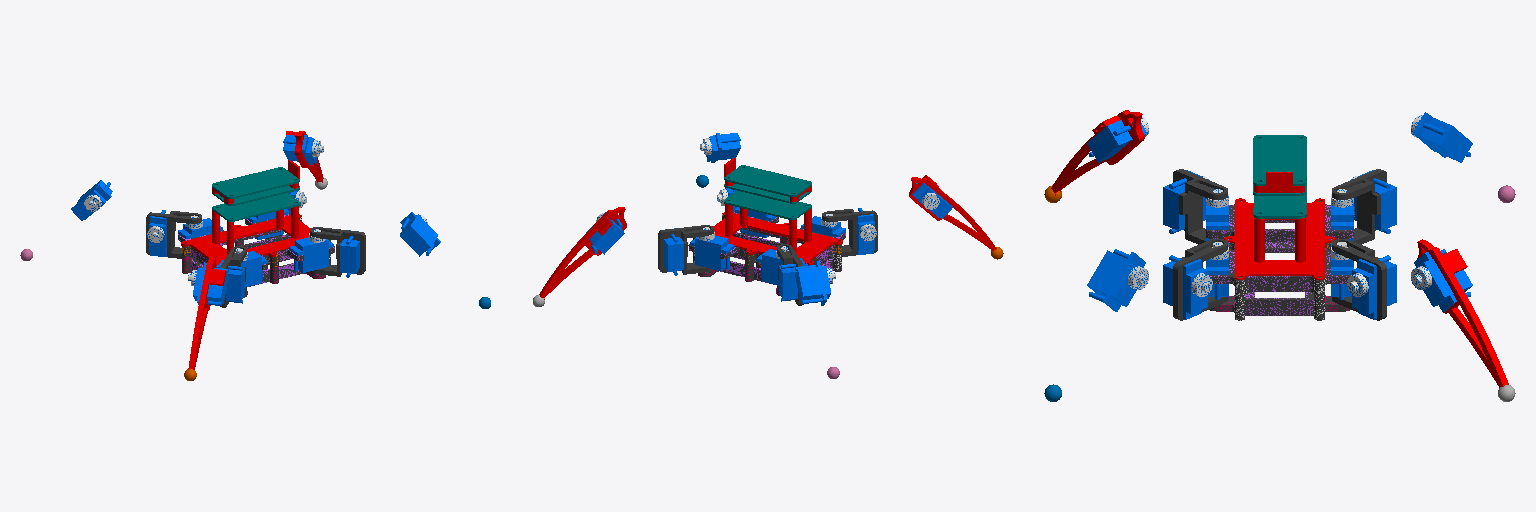
--- What the picture shows (computed from the rendered views, not written in the file) ---
3 views of the same robot in one strip: view 1: azimuth 30°, elevation 25°; view 2: azimuth 150°, elevation 25°; view 3: azimuth 270°, elevation 25° (orthographic).
Robot: open_critter — 29 links, 28 joints (12 revolute, 16 fixed); root link base_link; default pose: all joints at 0.
Links seen in each view (by area): view 1: base_link, rear_right_tibia_link, front_right_coxa_servo, front_right_tibia_servo, front_right_coxa_link, rear_left_coxa_link, rear_left_tibia_servo, rear_right_tibia_servo, rear_left_femur_servo, front_left_tibia_servo, front_right_femur_servo, rear_right_femur_servo (+1 smaller); view 2: base_link, front_left_tibia_link, rear_left_tibia_servo, rear_right_tibia_link, front_left_coxa_servo, front_left_coxa_link, front_right_tibia_servo, rear_right_coxa_link, rear_right_femur_servo, rear_right_tibia_servo, front_left_femur_servo, front_left_tibia_servo (+2 smaller); view 3: base_link, front_left_tibia_link, front_right_tibia_servo, rear_left_coxa_link, rear_right_coxa_link, front_left_femur_servo, front_right_femur_servo, rear_right_tibia_link, rear_left_tibia_servo, front_left_tibia_servo, front_left_coxa_link, front_right_coxa_link (+7 smaller).
Boxes of the visible links, <box> form: base_link: <box>178,160,334,297</box>; rear_right_tibia_link: <box>188,255,225,369</box>; front_right_coxa_servo: <box>289,229,333,272</box>; front_right_tibia_servo: <box>400,212,440,256</box>; front_right_coxa_link: <box>310,227,365,276</box>; rear_left_coxa_link: <box>146,211,201,258</box>; rear_left_tibia_servo: <box>71,180,112,220</box>; rear_right_tibia_servo: <box>188,262,228,305</box>; rear_left_femur_servo: <box>147,210,166,256</box>; front_left_tibia_servo: <box>283,135,323,164</box>; front_right_femur_servo: <box>340,230,359,277</box>; rear_right_femur_servo: <box>216,260,244,303</box>; base_link: <box>688,158,845,295</box>; front_left_tibia_link: <box>539,207,626,299</box>; rear_left_tibia_servo: <box>795,261,835,305</box>; rear_right_tibia_link: <box>909,175,996,250</box>; front_left_coxa_servo: <box>690,227,734,270</box>; front_left_coxa_link: <box>658,225,713,274</box>; front_right_tibia_servo: <box>700,133,740,162</box>; rear_right_coxa_link: <box>822,209,877,257</box>; rear_right_femur_servo: <box>857,208,876,254</box>; rear_right_tibia_servo: <box>912,183,952,218</box>; front_left_femur_servo: <box>664,228,683,275</box>; front_left_tibia_servo: <box>586,212,624,254</box>; base_link: <box>1206,135,1354,320</box>; front_left_tibia_link: <box>1417,239,1508,387</box>; front_right_tibia_servo: <box>1087,249,1148,311</box>; rear_left_coxa_link: <box>1332,169,1386,244</box>; rear_right_coxa_link: <box>1173,169,1227,244</box>; front_left_femur_servo: <box>1347,255,1396,319</box>; front_right_femur_servo: <box>1163,255,1212,319</box>; rear_right_tibia_link: <box>1051,110,1144,195</box>; rear_left_tibia_servo: <box>1411,112,1472,162</box>; front_left_tibia_servo: <box>1411,249,1472,311</box>; front_left_coxa_link: <box>1332,239,1386,320</box>; front_right_coxa_link: <box>1173,239,1227,320</box>.
Size in the robot's own frame: 0.2757 by 0.2658 by 0.0966 metres.
Meshes: 7 distinct files referenced, 19 mesh visuals loaded (5 Collada DAE); not drawn: 2 (reference not matched to a file when rendering), 4 (file found but could not be loaded).

robot.urdf — open_critter:
<?xml version="1.0" encoding="utf-8"?>
<robot name="open_critter">
  <link name="base_link">
    <visual>
      <origin rpy="0 0 3.14" xyz="0.0 0.0 0.04"/>
      <geometry>
        <mesh filename="package://open_critter/meshes/collada/body.dae"/>
      </geometry>
    </visual>
    <collision>
      <origin rpy="0 0 3.14" xyz="0.0 0.0 0.04"/>
      <geometry>
        <mesh filename="package://open_critter/meshes/collada/body.dae"/>
      </geometry>
    </collision>
    <inertial>
      <origin rpy="0 0 0" xyz="0 0 0"/>
      <geometry>
        <box size="0.1 0.05 0.03"/>
      </geometry>
      <mass value="0.2"/>
      <inertia ixx="5.66666666667e-05" ixy="0" ixz="0" iyy="0.000181666666667" iyz="0" izz="0.000181666666667"/>
    </inertial>
  </link>
  <joint name="front_left_base" type="fixed">
    <parent link="base_link"/>
    <child link="front_left_coxa_servo"/>
    <origin rpy="0 0 3.14159265359" xyz="0.03 0.035 0.0225"/>
  </joint>
  <link name="front_left_coxa_servo">
    <visual>
      <origin rpy="0 0 0" xyz="0 0 0"/>
      <geometry>
        <mesh filename="package://open_critter/meshes/collada/servo.dae"/>
      </geometry>
    </visual>
    <!-- <collision>
      <origin rpy="0 0 0" xyz="0 0 0"/>
      <geometry>
        <mesh filename="package://open_critter/meshes/collada/servo.dae"/>
      </geometry>
    </collision> -->
    <inertial>
      <origin rpy="0 0 0" xyz="0 0 0"/>
      <geometry>
        <box size="0.02 0.01 0.03"/>
      </geometry>
      <mass value="0.009"/>
      <inertia ixx="7.5e-07" ixy="0" ixz="0" iyy="9.75e-07" iyz="0" izz="9.75e-07"/>
    </inertial>
  </link>
  <joint name="front_left_coxa_joint" type="revolute">
    <parent link="front_left_coxa_servo"/>
    <child link="front_left_coxa_link"/>
    <origin rpy="0 0 -0.785398163397" xyz="-0.005 0 -0.002"/>
    <limit effort="10" lower="-1.0" upper="1.0" velocity="4.0"/>
    <axis xyz="0 0 1"/>
  </joint>
  <transmission name="front_left_coxa_transmission">
    <type>transmission_interface/SimpleTransmission</type>
    <joint name="front_left_coxa_joint">
      <hardwareInterface>hardware_interface/PositionJointInterface</hardwareInterface>
    </joint>
    <actuator name="front_left_coxa_actuator">
      <hardwareInterface>hardware_interface/PositionJointInterface</hardwareInterface>
      <mechanicalReduction>1.0</mechanicalReduction>
      <motorTorqueConstant>10</motorTorqueConstant>
    </actuator>
  </transmission>
  <link name="front_left_coxa_link">
    <visual>
      <origin rpy="0 0 0" xyz="0.002 -0.016 0"/>
      <geometry>
        <mesh filename="package://open_critter/meshes/collada/coxa_front.dae"/>
      </geometry>
    </visual>
    <collision>
      <origin rpy="0 0 0" xyz="0.002 -0.016 0"/>
      <geometry>
        <mesh filename="package://open_critter/meshes/collada/coxa_front.dae"/>
      </geometry>
    </collision>
    <inertial>
      <origin rpy="0 0 0" xyz="0 0 0"/>
      <geometry>
        <box size="0.04 0.01 0.03"/>
      </geometry>
      <mass value="0.001"/>
      <inertia ixx="8.33333333333e-08" ixy="0" ixz="0" iyy="2.08333333333e-07" iyz="0" izz="2.08333333333e-07"/>
    </inertial>
  </link>
  <gazebo reference="front_left_coxa_link">
    <gravity>true</gravity>
    <selfCollide>true</selfCollide>
  </gazebo>
  <joint name="front_left_femur_servo_to_coxa_joint" type="fixed">
    <parent link="front_left_coxa_link"/>
    <child link="front_left_femur_servo"/>
    <origin rpy="0 0 0" xyz="-0.005 -0.0275 0"/>
  </joint>
  <link name="front_left_femur_servo">
    <visual>
      <origin rpy="0 1.57079632679 3.14159265359" xyz="0 0 0"/>
      <geometry>
        <mesh filename="package://open_critter/meshes/collada/servo.dae"/>
      </geometry>
    </visual>
    <!-- <collision>
      <origin rpy="0 ${pi/2} ${nyaw}" xyz="0 0 0"/>
      <geometry>
        <mesh filename="package://open_critter/meshes/collada/servo.dae"/>
      </geometry>
    </collision> -->
    <inertial>
      <origin rpy="0 1.57079632679 3.14159265359" xyz="0 0 0"/>
      <geometry>
        <box size="0.02 0.01 0.03"/>
      </geometry>
      <mass value="0.009"/>
      <inertia ixx="7.5e-07" ixy="0" ixz="0" iyy="9.75e-07" iyz="0" izz="9.75e-07"/>
    </inertial>
  </link>
  <joint name="front_left_femur_joint" type="revolute">
    <parent link="front_left_femur_servo"/>
    <child link="front_left_femur_link"/>
    <origin rpy="-0.392699081699 0 0" xyz="0 0 0.005"/>
    <limit effort="10" lower="-1.0" upper="1.0" velocity="4.0"/>
    <axis xyz="-1.0 0 0"/>
  </joint>
  <transmission name="front_left_femur_transmission">
    <type>transmission_interface/SimpleTransmission</type>
    <joint name="front_left_femur_joint">
      <hardwareInterface>hardware_interface/PositionJointInterface</hardwareInterface>
    </joint>
    <actuator name="front_left_femur_actuator">
      <hardwareInterface>hardware_interface/PositionJointInterface</hardwareInterface>
      <mechanicalReduction>1.0</mechanicalReduction>
      <motorTorqueConstant>10</motorTorqueConstant>
    </actuator>
  </transmission>
  <link name="front_left_femur_link">
    <visual>
      <origin rpy="0 3.14159265359 0" xyz="0.0025 -0.0275 0"/>
      <geometry>
        <mesh filename="package://open_critter/meshes/collada/femur.dae"/>
      </geometry>
    </visual>
    <collision>
      <origin rpy="0 3.14159265359 0" xyz="0.0025 -0.0275 0"/>
      <geometry>
        <mesh filename="package://open_critter/meshes/collada/femur.dae"/>
      </geometry>
    </collision>
    <inertial>
      <origin rpy="0 0 0" xyz="0 0 0"/>
      <geometry>
        <box size="0.05 0.01 0.03"/>
      </geometry>
      <mass value="0.002"/>
      <inertia ixx="1.66666666667e-07" ixy="0" ixz="0" iyy="5.66666666667e-07" iyz="0" izz="5.66666666667e-07"/>
    </inertial>
  </link>
  <gazebo reference="front_left_femur_link">
    <gravity>true</gravity>
    <selfCollide>true</selfCollide>
  </gazebo>
  <joint name="front_left_tibia_joint" type="revolute">
    <parent link="front_left_femur_link"/>
    <child link="front_left_tibia_servo"/>
    <origin rpy="-0.392699081699 0 0" xyz="0 -0.055 0"/>
    <limit effort="10" lower="-1.0" upper="1.0" velocity="4.0"/>
    <axis xyz="1.0 0 0"/>
    <dynamics friction="0.7"/>
  </joint>
  <transmission name="front_left_tibia_transmission">
    <type>transmission_interface/SimpleTransmission</type>
    <joint name="front_left_tibia_joint">
      <hardwareInterface>hardware_interface/PositionJointInterface</hardwareInterface>
    </joint>
    <actuator name="front_left_tibia_actuator">
      <hardwareInterface>hardware_interface/PositionJointInterface</hardwareInterface>
      <mechanicalReduction>1.0</mechanicalReduction>
      <motorTorqueConstant>10</motorTorqueConstant>
    </actuator>
  </transmission>
  <link name="front_left_tibia_servo">
    <visual>
      <origin rpy="0 1.57079632679 3.14159265359" xyz="0.0 0 -0.005"/>
      <geometry>
        <mesh filename="package://open_critter/meshes/collada/servo.dae"/>
      </geometry>
    </visual>
    <!-- <collision>
      <origin rpy="0 ${pi/2} ${nyaw}" xyz="${side*servo_x} 0 -0.005"/>
      <geometry>
        <mesh filename="package://open_critter/meshes/collada/servo.dae"/>
      </geometry>
    </collision> -->
    <inertial>
      <origin rpy="0 1.57079632679 3.14159265359" xyz="0.0 0 -0.005"/>
      <geometry>
        <box size="0.02 0.01 0.03"/>
      </geometry>
      <mass value="0.009"/>
      <inertia ixx="7.5e-07" ixy="0" ixz="0" iyy="9.75e-07" iyz="0" izz="9.75e-07"/>
    </inertial>
  </link>
  <joint name="front_left_tibia_servo_to_femur_joint" type="fixed">
    <parent link="front_left_tibia_servo"/>
    <child link="front_left_tibia_link"/>
    <origin rpy="0 0 0" xyz="0 0 0"/>
  </joint>
  <link name="front_left_tibia_link">
    <visual>
      <origin rpy="0 0 3.14159265359" xyz="0.0075 0 -0.03"/>
      <geometry>
        <mesh filename="package://open_critter/meshes/collada/tibia_rear.dae"/>
      </geometry>
    </visual>
    <collision>
      <origin rpy="0 0 3.14159265359" xyz="0.0075 0 -0.03"/>
      <geometry>
        <mesh filename="package://open_critter/meshes/collada/tibia_rear.dae"/>
      </geometry>
    </collision>
    <inertial>
      <origin rpy="0 0 0" xyz="0 0 0"/>
      <geometry>
        <box size="0.1 0.005 0.005"/>
      </geometry>
      <mass value="0.001"/>
      <inertia ixx="4.16666666667e-09" ixy="0" ixz="0" iyy="8.35416666667e-07" iyz="0" izz="8.35416666667e-07"/>
    </inertial>
  </link>
  <gazebo reference="front_left_tibia_link">
    <mu1 value="5.0"/>
    <mu2 value="0.5"/>
    <kp value="10000000.0"/>
    <kd value="1.0"/>
    <fdir1 value="1 0 0"/>
    <turnGravityOff>false</turnGravityOff>
    <selfCollide>true</selfCollide>
  </gazebo>
  <joint name="front_left_tibia_paw_joint" type="fixed">
    <parent link="front_left_tibia_link"/>
    <child link="front_left_paw_link"/>
    <origin rpy="0 0 0" xyz="0.0015 0 -0.08"/>
  </joint>
  <link name="front_left_paw_link">
    <visual>
      <origin rpy="0 0 0" xyz="0 0 0"/>
      <geometry>
        <sphere radius="0.005"/>
      </geometry>
    </visual>
    <collision>
      <origin rpy="0 0 0" xyz="0 0 0"/>
      <geometry>
        <sphere radius="0.005"/>
      </geometry>
    </collision>
    <inertial>
      <origin rpy="0 0 0" xyz="0 0 0"/>
      <geometry>
        <sphere radius="0.005"/>
      </geometry>
      <mass value="0.001"/>
      <inertia ixx="1e-08" ixy="0" ixz="0" iyy="1e-08" iyz="0" izz="1e-08"/>
    </inertial>
  </link>
  <gazebo reference="front_left_paw_link">
    <gravity>true</gravity>
    <selfCollide>true</selfCollide>
    <mu1>0.1</mu1>
    <mu2>0.1</mu2>
    <kp>1000000.0</kp>
    <kd>1.0</kd>
    <fdir1>0 1 0</fdir1>
    <maxContacts>1</maxContacts>
    <minDepth>0.0001</minDepth>
    <collision name="front_left__paw_link_collision">
      <geometry>
        <sphere>
          <radius>0.005</radius>
        </sphere>
      </geometry>
      <surface>
        <friction>
          <torsional>
            <coefficient>10</coefficient>
            <use_patch_radius>false</use_patch_radius>
            <surface_radius>0.01</surface_radius>
            <patch_radius>0.01</patch_radius>
          </torsional>
        </friction>
        <contact>
          <poissons_ratio>0.01</poissons_ratio>
          <elastic_modulus>1e8</elastic_modulus>
        </contact>
      </surface>
    </collision>
    <material>Gazebo/Red</material>
  </gazebo>
  <joint name="rear_left_base" type="fixed">
    <parent link="base_link"/>
    <child link="rear_left_coxa_servo"/>
    <origin rpy="0 0 0" xyz="-0.03 0.035 0.0225"/>
  </joint>
  <link name="rear_left_coxa_servo">
    <visual>
      <origin rpy="0 0 0" xyz="0 0 0"/>
      <geometry>
        <mesh filename="package://open_critter/meshes/collada/servo.dae"/>
      </geometry>
    </visual>
    <!-- <collision>
      <origin rpy="0 0 0" xyz="0 0 0"/>
      <geometry>
        <mesh filename="package://open_critter/meshes/collada/servo.dae"/>
      </geometry>
    </collision> -->
    <inertial>
      <origin rpy="0 0 0" xyz="0 0 0"/>
      <geometry>
        <box size="0.02 0.01 0.03"/>
      </geometry>
      <mass value="0.009"/>
      <inertia ixx="7.5e-07" ixy="0" ixz="0" iyy="9.75e-07" iyz="0" izz="9.75e-07"/>
    </inertial>
  </link>
  <joint name="rear_left_coxa_joint" type="revolute">
    <parent link="rear_left_coxa_servo"/>
    <child link="rear_left_coxa_link"/>
    <origin rpy="0 0 3.92699081699" xyz="-0.005 0 -0.002"/>
    <limit effort="10" lower="-1.0" upper="1.0" velocity="4.0"/>
    <axis xyz="0 0 1"/>
  </joint>
  <transmission name="rear_left_coxa_transmission">
    <type>transmission_interface/SimpleTransmission</type>
    <joint name="rear_left_coxa_joint">
      <hardwareInterface>hardware_interface/PositionJointInterface</hardwareInterface>
    </joint>
    <actuator name="rear_left_coxa_actuator">
      <hardwareInterface>hardware_interface/PositionJointInterface</hardwareInterface>
      <mechanicalReduction>1.0</mechanicalReduction>
      <motorTorqueConstant>10</motorTorqueConstant>
    </actuator>
  </transmission>
  <link name="rear_left_coxa_link">
    <visual>
      <origin rpy="0 0 3.14159265359" xyz="-0.002 -0.016 0"/>
      <geometry>
        <mesh filename="package://open_critter/meshes/collada/coxa_rear.dae"/>
      </geometry>
    </visual>
    <collision>
      <origin rpy="0 0 3.14159265359" xyz="-0.002 -0.016 0"/>
      <geometry>
        <mesh filename="package://open_critter/meshes/collada/coxa_rear.dae"/>
      </geometry>
    </collision>
    <inertial>
      <origin rpy="0 0 0" xyz="0 0 0"/>
      <geometry>
        <box size="0.04 0.01 0.03"/>
      </geometry>
      <mass value="0.001"/>
      <inertia ixx="8.33333333333e-08" ixy="0" ixz="0" iyy="2.08333333333e-07" iyz="0" izz="2.08333333333e-07"/>
    </inertial>
  </link>
  <gazebo reference="rear_left_coxa_link">
    <gravity>true</gravity>
    <selfCollide>true</selfCollide>
  </gazebo>
  <joint name="rear_left_femur_servo_to_coxa_joint" type="fixed">
    <parent link="rear_left_coxa_link"/>
    <child link="rear_left_femur_servo"/>
    <origin rpy="0 0 0" xyz="0.005 -0.0275 0"/>
  </joint>
  <link name="rear_left_femur_servo">
    <visual>
      <origin rpy="0 1.57079632679 0" xyz="0 0 0"/>
      <geometry>
        <mesh filename="package://open_critter/meshes/collada/servo.dae"/>
      </geometry>
    </visual>
    <!-- <collision>
      <origin rpy="0 ${pi/2} ${nyaw}" xyz="0 0 0"/>
      <geometry>
        <mesh filename="package://open_critter/meshes/collada/servo.dae"/>
      </geometry>
    </collision> -->
    <inertial>
      <origin rpy="0 1.57079632679 0" xyz="0 0 0"/>
      <geometry>
        <box size="0.02 0.01 0.03"/>
      </geometry>
      <mass value="0.009"/>
      <inertia ixx="7.5e-07" ixy="0" ixz="0" iyy="9.75e-07" iyz="0" izz="9.75e-07"/>
    </inertial>
  </link>
  <joint name="rear_left_femur_joint" type="revolute">
    <parent link="rear_left_femur_servo"/>
    <child link="rear_left_femur_link"/>
    <origin rpy="-0.392699081699 0 0" xyz="-0.005 0 0.005"/>
    <limit effort="10" lower="-1.0" upper="1.0" velocity="4.0"/>
    <axis xyz="1.0 0 0"/>
  </joint>
  <transmission name="rear_left_femur_transmission">
    <type>transmission_interface/SimpleTransmission</type>
    <joint name="rear_left_femur_joint">
      <hardwareInterface>hardware_interface/PositionJointInterface</hardwareInterface>
    </joint>
    <actuator name="rear_left_femur_actuator">
      <hardwareInterface>hardware_interface/PositionJointInterface</hardwareInterface>
      <mechanicalReduction>1.0</mechanicalReduction>
      <motorTorqueConstant>10</motorTorqueConstant>
    </actuator>
  </transmission>
  <link name="rear_left_femur_link">
    <visual>
      <origin rpy="0 0 0" xyz="0.0025 -0.0275 0"/>
      <geometry>
        <mesh filename="package://open_critter/meshes/collada/femur.dae"/>
      </geometry>
    </visual>
    <collision>
      <origin rpy="0 0 0" xyz="0.0025 -0.0275 0"/>
      <geometry>
        <mesh filename="package://open_critter/meshes/collada/femur.dae"/>
      </geometry>
    </collision>
    <inertial>
      <origin rpy="0 0 0" xyz="0 0 0"/>
      <geometry>
        <box size="0.05 0.01 0.03"/>
      </geometry>
      <mass value="0.002"/>
      <inertia ixx="1.66666666667e-07" ixy="0" ixz="0" iyy="5.66666666667e-07" iyz="0" izz="5.66666666667e-07"/>
    </inertial>
  </link>
  <gazebo reference="rear_left_femur_link">
    <gravity>true</gravity>
    <selfCollide>true</selfCollide>
  </gazebo>
  <joint name="rear_left_tibia_joint" type="revolute">
    <parent link="rear_left_femur_link"/>
    <child link="rear_left_tibia_servo"/>
    <origin rpy="-0.392699081699 0 0" xyz="0 -0.055 0"/>
    <limit effort="10" lower="-1.0" upper="1.0" velocity="4.0"/>
    <axis xyz="-1.0 0 0"/>
    <dynamics friction="0.7"/>
  </joint>
  <transmission name="rear_left_tibia_transmission">
    <type>transmission_interface/SimpleTransmission</type>
    <joint name="rear_left_tibia_joint">
      <hardwareInterface>hardware_interface/PositionJointInterface</hardwareInterface>
    </joint>
    <actuator name="rear_left_tibia_actuator">
      <hardwareInterface>hardware_interface/PositionJointInterface</hardwareInterface>
      <mechanicalReduction>1.0</mechanicalReduction>
      <motorTorqueConstant>10</motorTorqueConstant>
    </actuator>
  </transmission>
  <link name="rear_left_tibia_servo">
    <visual>
      <origin rpy="0 1.57079632679 0" xyz="0.005 0 -0.005"/>
      <geometry>
        <mesh filename="package://open_critter/meshes/collada/servo.dae"/>
      </geometry>
    </visual>
    <!-- <collision>
      <origin rpy="0 ${pi/2} ${nyaw}" xyz="${side*servo_x} 0 -0.005"/>
      <geometry>
        <mesh filename="package://open_critter/meshes/collada/servo.dae"/>
      </geometry>
    </collision> -->
    <inertial>
      <origin rpy="0 1.57079632679 0" xyz="0.005 0 -0.005"/>
      <geometry>
        <box size="0.02 0.01 0.03"/>
      </geometry>
      <mass value="0.009"/>
      <inertia ixx="7.5e-07" ixy="0" ixz="0" iyy="9.75e-07" iyz="0" izz="9.75e-07"/>
    </inertial>
  </link>
  <joint name="rear_left_tibia_servo_to_femur_joint" type="fixed">
    <parent link="rear_left_tibia_servo"/>
    <child link="rear_left_tibia_link"/>
    <origin rpy="0 0 0" xyz="0 0 0"/>
  </joint>
  <link name="rear_left_tibia_link">
    <visual>
      <origin rpy="0 0 0" xyz="-0.0025 0 -0.03"/>
      <geometry>
        <mesh filename="package://open_critter/meshes/collada/tibia_front.dae"/>
      </geometry>
    </visual>
    <collision>
      <origin rpy="0 0 0" xyz="-0.0025 0 -0.03"/>
      <geometry>
        <mesh filename="package://open_critter/meshes/collada/tibia_front.dae"/>
      </geometry>
    </collision>
    <inertial>
      <origin rpy="0 0 0" xyz="0 0 0"/>
      <geometry>
        <box size="0.1 0.005 0.005"/>
      </geometry>
      <mass value="0.001"/>
      <inertia ixx="4.16666666667e-09" ixy="0" ixz="0" iyy="8.35416666667e-07" iyz="0" izz="8.35416666667e-07"/>
    </inertial>
  </link>
  <gazebo reference="rear_left_tibia_link">
    <mu1 value="5.0"/>
    <mu2 value="0.5"/>
    <kp value="10000000.0"/>
    <kd value="1.0"/>
    <fdir1 value="1 0 0"/>
    <turnGravityOff>false</turnGravityOff>
    <selfCollide>true</selfCollide>
  </gazebo>
  <joint name="rear_left_tibia_paw_joint" type="fixed">
    <parent link="rear_left_tibia_link"/>
    <child link="rear_left_paw_link"/>
    <origin rpy="0 0 0" xyz="0.0035 0 -0.08"/>
  </joint>
  <link name="rear_left_paw_link">
    <visual>
      <origin rpy="0 0 0" xyz="0 0 0"/>
      <geometry>
        <sphere radius="0.005"/>
      </geometry>
    </visual>
    <collision>
      <origin rpy="0 0 0" xyz="0 0 0"/>
      <geometry>
        <sphere radius="0.005"/>
      </geometry>
    </collision>
    <inertial>
      <origin rpy="0 0 0" xyz="0 0 0"/>
      <geometry>
        <sphere radius="0.005"/>
      </geometry>
      <mass value="0.001"/>
      <inertia ixx="1e-08" ixy="0" ixz="0" iyy="1e-08" iyz="0" izz="1e-08"/>
    </inertial>
  </link>
  <gazebo reference="rear_left_paw_link">
    <gravity>true</gravity>
    <selfCollide>true</selfCollide>
    <mu1>0.1</mu1>
    <mu2>0.1</mu2>
    <kp>1000000.0</kp>
    <kd>1.0</kd>
    <fdir1>0 1 0</fdir1>
    <maxContacts>1</maxContacts>
    <minDepth>0.0001</minDepth>
    <collision name="rear_left__paw_link_collision">
      <geometry>
        <sphere>
          <radius>0.005</radius>
        </sphere>
      </geometry>
      <surface>
        <friction>
          <torsional>
            <coefficient>10</coefficient>
            <use_patch_radius>false</use_patch_radius>
            <surface_radius>0.01</surface_radius>
            <patch_radius>0.01</patch_radius>
          </torsional>
        </friction>
        <contact>
          <poissons_ratio>0.01</poissons_ratio>
          <elastic_modulus>1e8</elastic_modulus>
        </contact>
      </surface>
    </collision>
    <material>Gazebo/Red</material>
  </gazebo>
  <joint name="rear_right_base" type="fixed">
    <parent link="base_link"/>
    <child link="rear_right_coxa_servo"/>
    <origin rpy="0 0 0" xyz="-0.03 -0.035 0.0225"/>
  </joint>
  <link name="rear_right_coxa_servo">
    <visual>
      <origin rpy="0 0 0" xyz="0 0 0"/>
      <geometry>
        <mesh filename="package://open_critter/meshes/collada/servo.dae"/>
      </geometry>
    </visual>
    <!-- <collision>
      <origin rpy="0 0 0" xyz="0 0 0"/>
      <geometry>
        <mesh filename="package://open_critter/meshes/collada/servo.dae"/>
      </geometry>
    </collision> -->
    <inertial>
      <origin rpy="0 0 0" xyz="0 0 0"/>
      <geometry>
        <box size="0.02 0.01 0.03"/>
      </geometry>
      <mass value="0.009"/>
      <inertia ixx="7.5e-07" ixy="0" ixz="0" iyy="9.75e-07" iyz="0" izz="9.75e-07"/>
    </inertial>
  </link>
  <joint name="rear_right_coxa_joint" type="revolute">
    <parent link="rear_right_coxa_servo"/>
    <child link="rear_right_coxa_link"/>
    <origin rpy="0 0 -0.785398163397" xyz="-0.005 0 -0.002"/>
    <limit effort="10" lower="-1.0" upper="1.0" velocity="4.0"/>
    <axis xyz="0 0 1"/>
  </joint>
  <transmission name="rear_right_coxa_transmission">
    <type>transmission_interface/SimpleTransmission</type>
    <joint name="rear_right_coxa_joint">
      <hardwareInterface>hardware_interface/PositionJointInterface</hardwareInterface>
    </joint>
    <actuator name="rear_right_coxa_actuator">
      <hardwareInterface>hardware_interface/PositionJointInterface</hardwareInterface>
      <mechanicalReduction>1.0</mechanicalReduction>
      <motorTorqueConstant>10</motorTorqueConstant>
    </actuator>
  </transmission>
  <link name="rear_right_coxa_link">
    <visual>
      <origin rpy="0 0 0" xyz="0.002 -0.016 0"/>
      <geometry>
        <mesh filename="package://open_critter/meshes/collada/coxa_front.dae"/>
      </geometry>
    </visual>
    <collision>
      <origin rpy="0 0 0" xyz="0.002 -0.016 0"/>
      <geometry>
        <mesh filename="package://open_critter/meshes/collada/coxa_front.dae"/>
      </geometry>
    </collision>
    <inertial>
      <origin rpy="0 0 0" xyz="0 0 0"/>
      <geometry>
        <box size="0.04 0.01 0.03"/>
      </geometry>
      <mass value="0.001"/>
      <inertia ixx="8.33333333333e-08" ixy="0" ixz="0" iyy="2.08333333333e-07" iyz="0" izz="2.08333333333e-07"/>
    </inertial>
  </link>
  <gazebo reference="rear_right_coxa_link">
    <gravity>true</gravity>
    <selfCollide>true</selfCollide>
  </gazebo>
  <joint name="rear_right_femur_servo_to_coxa_joint" type="fixed">
    <parent link="rear_right_coxa_link"/>
    <child link="rear_right_femur_servo"/>
    <origin rpy="0 0 0" xyz="-0.005 -0.0275 0"/>
  </joint>
  <link name="rear_right_femur_servo">
    <visual>
      <origin rpy="0 1.57079632679 3.14159265359" xyz="0 0 0"/>
      <geometry>
        <mesh filename="package://open_critter/meshes/collada/servo.dae"/>
      </geometry>
    </visual>
    <!-- <collision>
      <origin rpy="0 ${pi/2} ${nyaw}" xyz="0 0 0"/>
      <geometry>
        <mesh filename="package://open_critter/meshes/collada/servo.dae"/>
      </geometry>
    </collision> -->
    <inertial>
      <origin rpy="0 1.57079632679 3.14159265359" xyz="0 0 0"/>
      <geometry>
        <box size="0.02 0.01 0.03"/>
      </geometry>
      <mass value="0.009"/>
      <inertia ixx="7.5e-07" ixy="0" ixz="0" iyy="9.75e-07" iyz="0" izz="9.75e-07"/>
    </inertial>
  </link>
  <joint name="rear_right_femur_joint" type="revolute">
    <parent link="rear_right_femur_servo"/>
    <child link="rear_right_femur_link"/>
    <origin rpy="-0.392699081699 0 0" xyz="0 0 0.005"/>
    <limit effort="10" lower="-1.0" upper="1.0" velocity="4.0"/>
    <axis xyz="-1.0 0 0"/>
  </joint>
  <transmission name="rear_right_femur_transmission">
    <type>transmission_interface/SimpleTransmission</type>
    <joint name="rear_right_femur_joint">
      <hardwareInterface>hardware_interface/PositionJointInterface</hardwareInterface>
    </joint>
    <actuator name="rear_right_femur_actuator">
      <hardwareInterface>hardware_interface/PositionJointInterface</hardwareInterface>
      <mechanicalReduction>1.0</mechanicalReduction>
      <motorTorqueConstant>10</motorTorqueConstant>
    </actuator>
  </transmission>
  <link name="rear_right_femur_link">
    <visual>
      <origin rpy="0 3.14159265359 0" xyz="0.0025 -0.0275 0"/>
      <geometry>
        <mesh filename="package://open_critter/meshes/collada/femur.dae"/>
      </geometry>
    </visual>
    <collision>
      <origin rpy="0 3.14159265359 0" xyz="0.0025 -0.0275 0"/>
      <geometry>
        <mesh filename="package://open_critter/meshes/collada/femur.dae"/>
      </geometry>
    </collision>
    <inertial>
      <origin rpy="0 0 0" xyz="0 0 0"/>
      <geometry>
        <box size="0.05 0.01 0.03"/>
      </geometry>
      <mass value="0.002"/>
      <inertia ixx="1.66666666667e-07" ixy="0" ixz="0" iyy="5.66666666667e-07" iyz="0" izz="5.66666666667e-07"/>
    </inertial>
  </link>
  <gazebo reference="rear_right_femur_link">
    <gravity>true</gravity>
    <selfCollide>true</selfCollide>
  </gazebo>
  <joint name="rear_right_tibia_joint" type="revolute">
    <parent link="rear_right_femur_link"/>
    <child link="rear_right_tibia_servo"/>
    <origin rpy="-0.392699081699 0 0" xyz="0 -0.055 0"/>
    <limit effort="10" lower="-1.0" upper="1.0" velocity="4.0"/>
    <axis xyz="1.0 0 0"/>
    <dynamics friction="0.7"/>
  </joint>
  <transmission name="rear_right_tibia_transmission">
    <type>transmission_interface/SimpleTransmission</type>
    <joint name="rear_right_tibia_joint">
      <hardwareInterface>hardware_interface/PositionJointInterface</hardwareInterface>
    </joint>
    <actuator name="rear_right_tibia_actuator">
      <hardwareInterface>hardware_interface/PositionJointInterface</hardwareInterface>
      <mechanicalReduction>1.0</mechanicalReduction>
      <motorTorqueConstant>10</motorTorqueConstant>
    </actuator>
  </transmission>
  <link name="rear_right_tibia_servo">
    <visual>
      <origin rpy="0 1.57079632679 3.14159265359" xyz="0.0 0 -0.005"/>
      <geometry>
        <mesh filename="package://open_critter/meshes/collada/servo.dae"/>
      </geometry>
    </visual>
    <!-- <collision>
      <origin rpy="0 ${pi/2} ${nyaw}" xyz="${side*servo_x} 0 -0.005"/>
      <geometry>
        <mesh filename="package://open_critter/meshes/collada/servo.dae"/>
      </geometry>
    </collision> -->
    <inertial>
      <origin rpy="0 1.57079632679 3.14159265359" xyz="0.0 0 -0.005"/>
      <geometry>
        <box size="0.02 0.01 0.03"/>
      </geometry>
      <mass value="0.009"/>
      <inertia ixx="7.5e-07" ixy="0" ixz="0" iyy="9.75e-07" iyz="0" izz="9.75e-07"/>
    </inertial>
  </link>
  <joint name="rear_right_tibia_servo_to_femur_joint" type="fixed">
    <parent link="rear_right_tibia_servo"/>
    <child link="rear_right_tibia_link"/>
    <origin rpy="0 0 0" xyz="0 0 0"/>
  </joint>
  <link name="rear_right_tibia_link">
    <visual>
      <origin rpy="0 0 3.14159265359" xyz="0.0075 0 -0.03"/>
      <geometry>
        <mesh filename="package://open_critter/meshes/collada/tibia_rear.dae"/>
      </geometry>
    </visual>
    <collision>
      <origin rpy="0 0 3.14159265359" xyz="0.0075 0 -0.03"/>
      <geometry>
        <mesh filename="package://open_critter/meshes/collada/tibia_rear.dae"/>
      </geometry>
    </collision>
    <inertial>
      <origin rpy="0 0 0" xyz="0 0 0"/>
      <geometry>
        <box size="0.1 0.005 0.005"/>
      </geometry>
      <mass value="0.001"/>
      <inertia ixx="4.16666666667e-09" ixy="0" ixz="0" iyy="8.35416666667e-07" iyz="0" izz="8.35416666667e-07"/>
    </inertial>
  </link>
  <gazebo reference="rear_right_tibia_link">
    <mu1 value="5.0"/>
    <mu2 value="0.5"/>
    <kp value="10000000.0"/>
    <kd value="1.0"/>
    <fdir1 value="1 0 0"/>
    <turnGravityOff>false</turnGravityOff>
    <selfCollide>true</selfCollide>
  </gazebo>
  <joint name="rear_right_tibia_paw_joint" type="fixed">
    <parent link="rear_right_tibia_link"/>
    <child link="rear_right_paw_link"/>
    <origin rpy="0 0 0" xyz="0.0015 0 -0.08"/>
  </joint>
  <link name="rear_right_paw_link">
    <visual>
      <origin rpy="0 0 0" xyz="0 0 0"/>
      <geometry>
        <sphere radius="0.005"/>
      </geometry>
    </visual>
    <collision>
      <origin rpy="0 0 0" xyz="0 0 0"/>
      <geometry>
        <sphere radius="0.005"/>
      </geometry>
    </collision>
    <inertial>
      <origin rpy="0 0 0" xyz="0 0 0"/>
      <geometry>
        <sphere radius="0.005"/>
      </geometry>
      <mass value="0.001"/>
      <inertia ixx="1e-08" ixy="0" ixz="0" iyy="1e-08" iyz="0" izz="1e-08"/>
    </inertial>
  </link>
  <gazebo reference="rear_right_paw_link">
    <gravity>true</gravity>
    <selfCollide>true</selfCollide>
    <mu1>0.1</mu1>
    <mu2>0.1</mu2>
    <kp>1000000.0</kp>
    <kd>1.0</kd>
    <fdir1>0 1 0</fdir1>
    <maxContacts>1</maxContacts>
    <minDepth>0.0001</minDepth>
    <collision name="rear_right__paw_link_collision">
      <geometry>
        <sphere>
          <radius>0.005</radius>
        </sphere>
      </geometry>
      <surface>
        <friction>
          <torsional>
            <coefficient>10</coefficient>
            <use_patch_radius>false</use_patch_radius>
            <surface_radius>0.01</surface_radius>
            <patch_radius>0.01</patch_radius>
          </torsional>
        </friction>
        <contact>
          <poissons_ratio>0.01</poissons_ratio>
          <elastic_modulus>1e8</elastic_modulus>
        </contact>
      </surface>
    </collision>
    <material>Gazebo/Red</material>
  </gazebo>
  <joint name="front_right_base" type="fixed">
    <parent link="base_link"/>
    <child link="front_right_coxa_servo"/>
    <origin rpy="0 0 3.14159265359" xyz="0.03 -0.035 0.0225"/>
  </joint>
  <link name="front_right_coxa_servo">
    <visual>
      <origin rpy="0 0 0" xyz="0 0 0"/>
      <geometry>
        <mesh filename="package://open_critter/meshes/collada/servo.dae"/>
      </geometry>
    </visual>
    <!-- <collision>
      <origin rpy="0 0 0" xyz="0 0 0"/>
      <geometry>
        <mesh filename="package://open_critter/meshes/collada/servo.dae"/>
      </geometry>
    </collision> -->
    <inertial>
      <origin rpy="0 0 0" xyz="0 0 0"/>
      <geometry>
        <box size="0.02 0.01 0.03"/>
      </geometry>
      <mass value="0.009"/>
      <inertia ixx="7.5e-07" ixy="0" ixz="0" iyy="9.75e-07" iyz="0" izz="9.75e-07"/>
    </inertial>
  </link>
  <joint name="front_right_coxa_joint" type="revolute">
    <parent link="front_right_coxa_servo"/>
    <child link="front_right_coxa_link"/>
    <origin rpy="0 0 3.92699081699" xyz="-0.005 0 -0.002"/>
    <limit effort="10" lower="-1.0" upper="1.0" velocity="4.0"/>
    <axis xyz="0 0 1"/>
  </joint>
  <transmission name="front_right_coxa_transmission">
    <type>transmission_interface/SimpleTransmission</type>
    <joint name="front_right_coxa_joint">
      <hardwareInterface>hardware_interface/PositionJointInterface</hardwareInterface>
    </joint>
    <actuator name="front_right_coxa_actuator">
      <hardwareInterface>hardware_interface/PositionJointInterface</hardwareInterface>
      <mechanicalReduction>1.0</mechanicalReduction>
      <motorTorqueConstant>10</motorTorqueConstant>
    </actuator>
  </transmission>
  <link name="front_right_coxa_link">
    <visual>
      <origin rpy="0 0 3.14159265359" xyz="-0.002 -0.016 0"/>
      <geometry>
        <mesh filename="package://open_critter/meshes/collada/coxa_rear.dae"/>
      </geometry>
    </visual>
    <collision>
      <origin rpy="0 0 3.14159265359" xyz="-0.002 -0.016 0"/>
      <geometry>
        <mesh filename="package://open_critter/meshes/collada/coxa_rear.dae"/>
      </geometry>
    </collision>
    <inertial>
      <origin rpy="0 0 0" xyz="0 0 0"/>
      <geometry>
        <box size="0.04 0.01 0.03"/>
      </geometry>
      <mass value="0.001"/>
      <inertia ixx="8.33333333333e-08" ixy="0" ixz="0" iyy="2.08333333333e-07" iyz="0" izz="2.08333333333e-07"/>
    </inertial>
  </link>
  <gazebo reference="front_right_coxa_link">
    <gravity>true</gravity>
    <selfCollide>true</selfCollide>
  </gazebo>
  <joint name="front_right_femur_servo_to_coxa_joint" type="fixed">
    <parent link="front_right_coxa_link"/>
    <child link="front_right_femur_servo"/>
    <origin rpy="0 0 0" xyz="0.005 -0.0275 0"/>
  </joint>
  <link name="front_right_femur_servo">
    <visual>
      <origin rpy="0 1.57079632679 0" xyz="0 0 0"/>
      <geometry>
        <mesh filename="package://open_critter/meshes/collada/servo.dae"/>
      </geometry>
    </visual>
    <!-- <collision>
      <origin rpy="0 ${pi/2} ${nyaw}" xyz="0 0 0"/>
      <geometry>
        <mesh filename="package://open_critter/meshes/collada/servo.dae"/>
      </geometry>
    </collision> -->
    <inertial>
      <origin rpy="0 1.57079632679 0" xyz="0 0 0"/>
      <geometry>
        <box size="0.02 0.01 0.03"/>
      </geometry>
      <mass value="0.009"/>
      <inertia ixx="7.5e-07" ixy="0" ixz="0" iyy="9.75e-07" iyz="0" izz="9.75e-07"/>
    </inertial>
  </link>
  <joint name="front_right_femur_joint" type="revolute">
    <parent link="front_right_femur_servo"/>
    <child link="front_right_femur_link"/>
    <origin rpy="-0.392699081699 0 0" xyz="-0.005 0 0.005"/>
    <limit effort="10" lower="-1.0" upper="1.0" velocity="4.0"/>
    <axis xyz="1.0 0 0"/>
  </joint>
  <transmission name="front_right_femur_transmission">
    <type>transmission_interface/SimpleTransmission</type>
    <joint name="front_right_femur_joint">
      <hardwareInterface>hardware_interface/PositionJointInterface</hardwareInterface>
    </joint>
    <actuator name="front_right_femur_actuator">
      <hardwareInterface>hardware_interface/PositionJointInterface</hardwareInterface>
      <mechanicalReduction>1.0</mechanicalReduction>
      <motorTorqueConstant>10</motorTorqueConstant>
    </actuator>
  </transmission>
  <link name="front_right_femur_link">
    <visual>
      <origin rpy="0 0 0" xyz="0.0025 -0.0275 0"/>
      <geometry>
        <mesh filename="package://open_critter/meshes/collada/femur.dae"/>
      </geometry>
    </visual>
    <collision>
      <origin rpy="0 0 0" xyz="0.0025 -0.0275 0"/>
      <geometry>
        <mesh filename="package://open_critter/meshes/collada/femur.dae"/>
      </geometry>
    </collision>
    <inertial>
      <origin rpy="0 0 0" xyz="0 0 0"/>
      <geometry>
        <box size="0.05 0.01 0.03"/>
      </geometry>
      <mass value="0.002"/>
      <inertia ixx="1.66666666667e-07" ixy="0" ixz="0" iyy="5.66666666667e-07" iyz="0" izz="5.66666666667e-07"/>
    </inertial>
  </link>
  <gazebo reference="front_right_femur_link">
    <gravity>true</gravity>
    <selfCollide>true</selfCollide>
  </gazebo>
  <joint name="front_right_tibia_joint" type="revolute">
    <parent link="front_right_femur_link"/>
    <child link="front_right_tibia_servo"/>
    <origin rpy="-0.392699081699 0 0" xyz="0 -0.055 0"/>
    <limit effort="10" lower="-1.0" upper="1.0" velocity="4.0"/>
    <axis xyz="-1.0 0 0"/>
    <dynamics friction="0.7"/>
  </joint>
  <transmission name="front_right_tibia_transmission">
    <type>transmission_interface/SimpleTransmission</type>
    <joint name="front_right_tibia_joint">
      <hardwareInterface>hardware_interface/PositionJointInterface</hardwareInterface>
    </joint>
    <actuator name="front_right_tibia_actuator">
      <hardwareInterface>hardware_interface/PositionJointInterface</hardwareInterface>
      <mechanicalReduction>1.0</mechanicalReduction>
      <motorTorqueConstant>10</motorTorqueConstant>
    </actuator>
  </transmission>
  <link name="front_right_tibia_servo">
    <visual>
      <origin rpy="0 1.57079632679 0" xyz="0.005 0 -0.005"/>
      <geometry>
        <mesh filename="package://open_critter/meshes/collada/servo.dae"/>
      </geometry>
    </visual>
    <!-- <collision>
      <origin rpy="0 ${pi/2} ${nyaw}" xyz="${side*servo_x} 0 -0.005"/>
      <geometry>
        <mesh filename="package://open_critter/meshes/collada/servo.dae"/>
      </geometry>
    </collision> -->
    <inertial>
      <origin rpy="0 1.57079632679 0" xyz="0.005 0 -0.005"/>
      <geometry>
        <box size="0.02 0.01 0.03"/>
      </geometry>
      <mass value="0.009"/>
      <inertia ixx="7.5e-07" ixy="0" ixz="0" iyy="9.75e-07" iyz="0" izz="9.75e-07"/>
    </inertial>
  </link>
  <joint name="front_right_tibia_servo_to_femur_joint" type="fixed">
    <parent link="front_right_tibia_servo"/>
    <child link="front_right_tibia_link"/>
    <origin rpy="0 0 0" xyz="0 0 0"/>
  </joint>
  <link name="front_right_tibia_link">
    <visual>
      <origin rpy="0 0 0" xyz="-0.0025 0 -0.03"/>
      <geometry>
        <mesh filename="package://open_critter/meshes/collada/tibia_front.dae"/>
      </geometry>
    </visual>
    <collision>
      <origin rpy="0 0 0" xyz="-0.0025 0 -0.03"/>
      <geometry>
        <mesh filename="package://open_critter/meshes/collada/tibia_front.dae"/>
      </geometry>
    </collision>
    <inertial>
      <origin rpy="0 0 0" xyz="0 0 0"/>
      <geometry>
        <box size="0.1 0.005 0.005"/>
      </geometry>
      <mass value="0.001"/>
      <inertia ixx="4.16666666667e-09" ixy="0" ixz="0" iyy="8.35416666667e-07" iyz="0" izz="8.35416666667e-07"/>
    </inertial>
  </link>
  <gazebo reference="front_right_tibia_link">
    <mu1 value="5.0"/>
    <mu2 value="0.5"/>
    <kp value="10000000.0"/>
    <kd value="1.0"/>
    <fdir1 value="1 0 0"/>
    <turnGravityOff>false</turnGravityOff>
    <selfCollide>true</selfCollide>
  </gazebo>
  <joint name="front_right_tibia_paw_joint" type="fixed">
    <parent link="front_right_tibia_link"/>
    <child link="front_right_paw_link"/>
    <origin rpy="0 0 0" xyz="0.0035 0 -0.08"/>
  </joint>
  <link name="front_right_paw_link">
    <visual>
      <origin rpy="0 0 0" xyz="0 0 0"/>
      <geometry>
        <sphere radius="0.005"/>
      </geometry>
    </visual>
    <collision>
      <origin rpy="0 0 0" xyz="0 0 0"/>
      <geometry>
        <sphere radius="0.005"/>
      </geometry>
    </collision>
    <inertial>
      <origin rpy="0 0 0" xyz="0 0 0"/>
      <geometry>
        <sphere radius="0.005"/>
      </geometry>
      <mass value="0.001"/>
      <inertia ixx="1e-08" ixy="0" ixz="0" iyy="1e-08" iyz="0" izz="1e-08"/>
    </inertial>
  </link>
  <gazebo reference="front_right_paw_link">
    <gravity>true</gravity>
    <selfCollide>true</selfCollide>
    <mu1>0.1</mu1>
    <mu2>0.1</mu2>
    <kp>1000000.0</kp>
    <kd>1.0</kd>
    <fdir1>0 1 0</fdir1>
    <maxContacts>1</maxContacts>
    <minDepth>0.0001</minDepth>
    <collision name="front_right__paw_link_collision">
      <geometry>
        <sphere>
          <radius>0.005</radius>
        </sphere>
      </geometry>
      <surface>
        <friction>
          <torsional>
            <coefficient>10</coefficient>
            <use_patch_radius>false</use_patch_radius>
            <surface_radius>0.01</surface_radius>
            <patch_radius>0.01</patch_radius>
          </torsional>
        </friction>
        <contact>
          <poissons_ratio>0.01</poissons_ratio>
          <elastic_modulus>1e8</elastic_modulus>
        </contact>
      </surface>
    </collision>
    <material>Gazebo/Red</material>
  </gazebo>
  <gazebo>
    <plugin filename="libgazebo_ros_control.so" name="gazebo_ros_control">
      <robotNamespace>/open_critter</robotNamespace>
    </plugin>
  </gazebo>
  <gazebo>
    <plugin filename="libgazebo_ros_p3d.so" name="p3d_base_controller">
      <alwaysOn>true</alwaysOn>
      <updateRate>100.0</updateRate>
      <bodyName>base_link</bodyName>
      <topicName>/gazebo/odom</topicName>
      <gaussianNoise>0.00001</gaussianNoise>
      <frameName>world</frameName>
      <xyzOffsets>0 0 0</xyzOffsets>
      <rpyOffsets>0 0 0</rpyOffsets>
    </plugin>
  </gazebo>
</robot>
